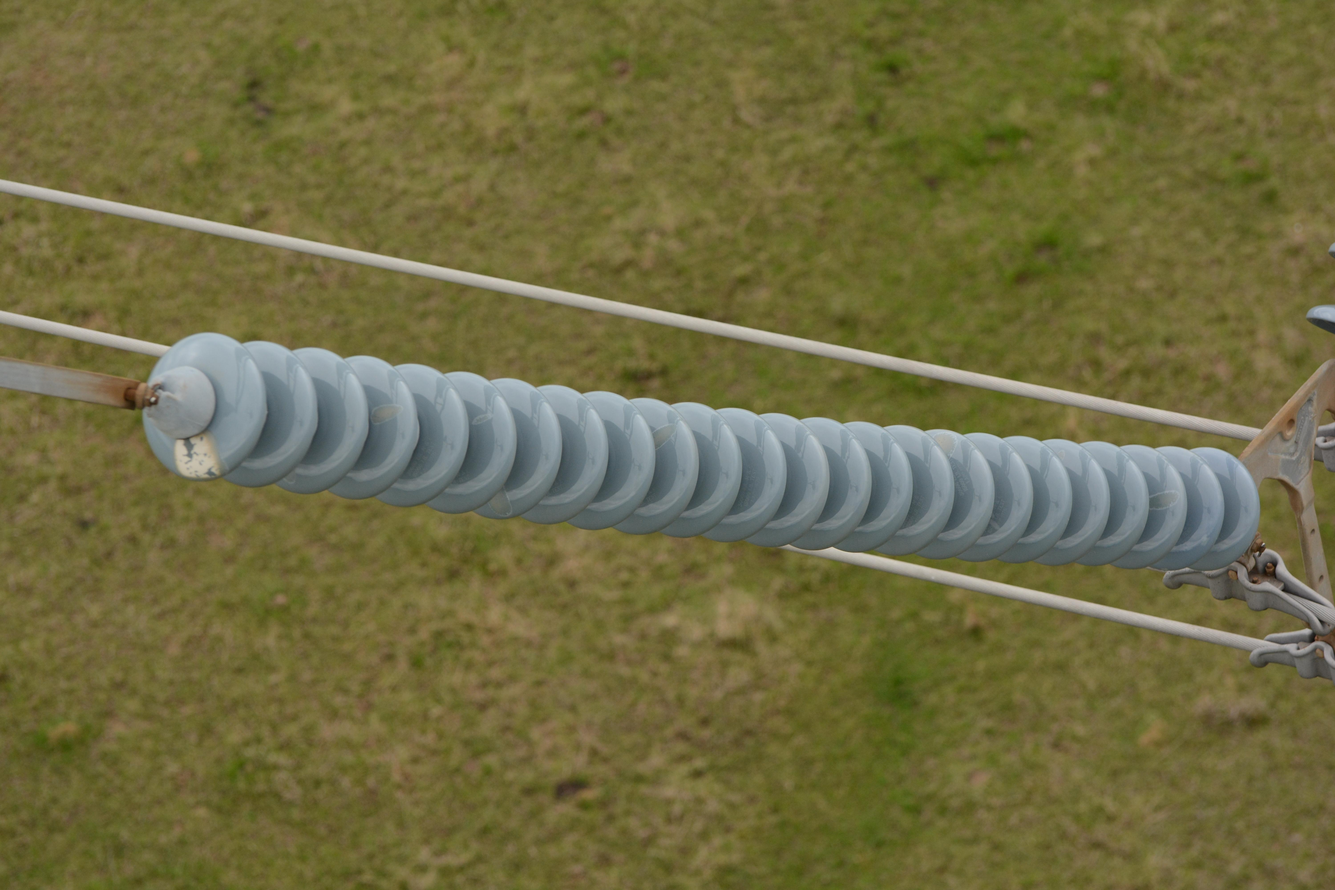Flashover: (170, 425, 224, 483), (481, 479, 514, 517), (372, 397, 405, 426), (1143, 486, 1179, 512), (650, 421, 680, 451), (927, 431, 960, 458)
insulator: (138, 330, 1262, 576)
